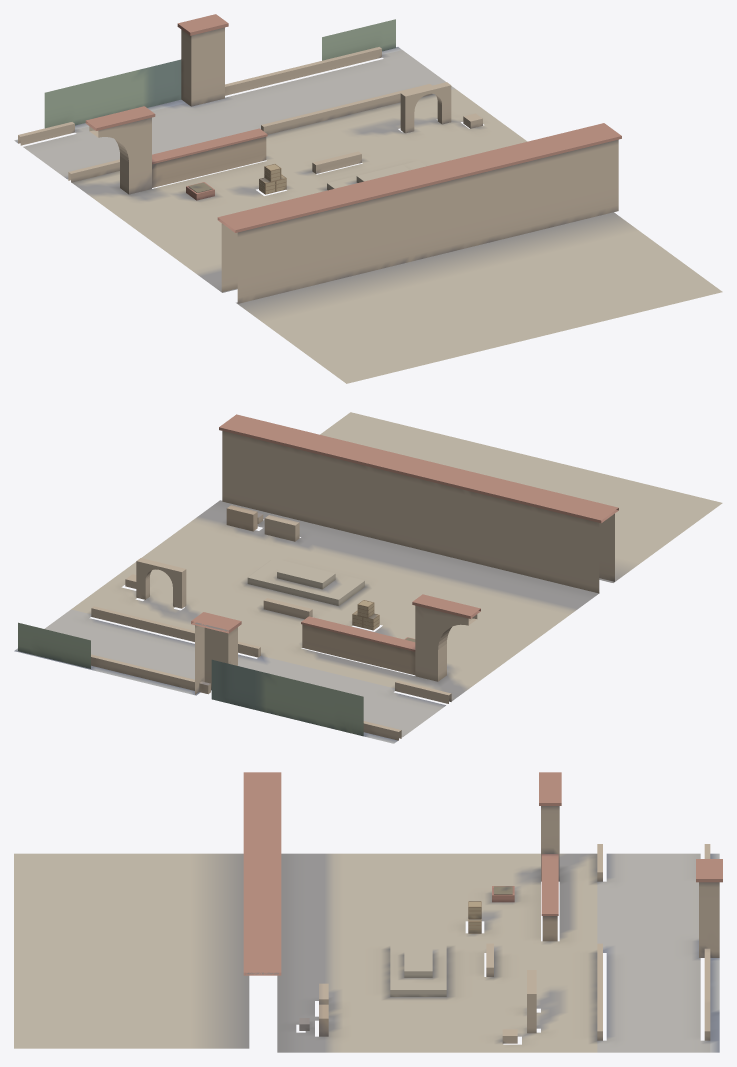
The picture shows the model from 3 angles, top to bottom: view 1: azimuth 30°, elevation 25°; view 2: azimuth 150°, elevation 25°; view 3: azimuth 270°, elevation 25°; orthographic projection. The views are drawn at different scales.
Visible parts, largest first — view 1: t; view 2: t; view 3: t.
Boxes of the visible parts, bbox=[...] form: t: bbox=[14, 14, 722, 383]; t: bbox=[14, 412, 722, 743]; t: bbox=[14, 772, 722, 1052].
Size of the model in its own units: 50.4 by 9.4 by 75.36.
